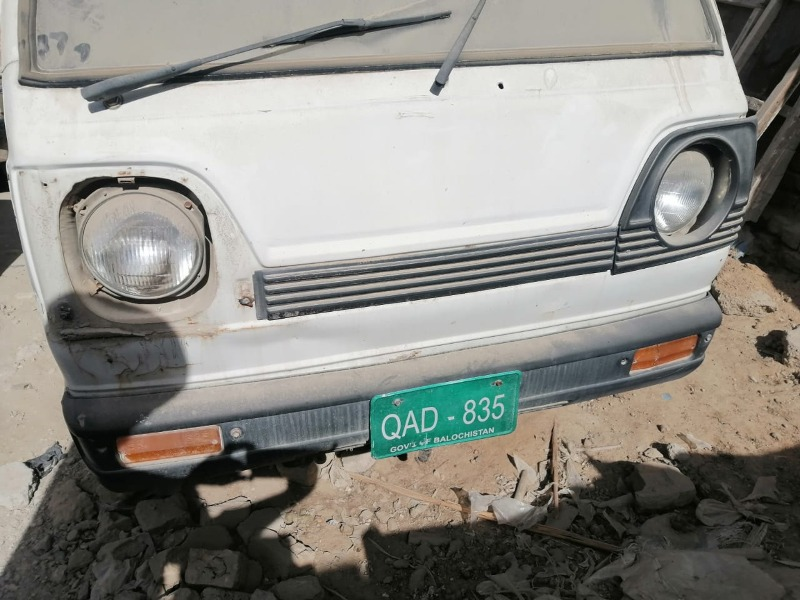License Plate: (365, 370, 525, 461)
